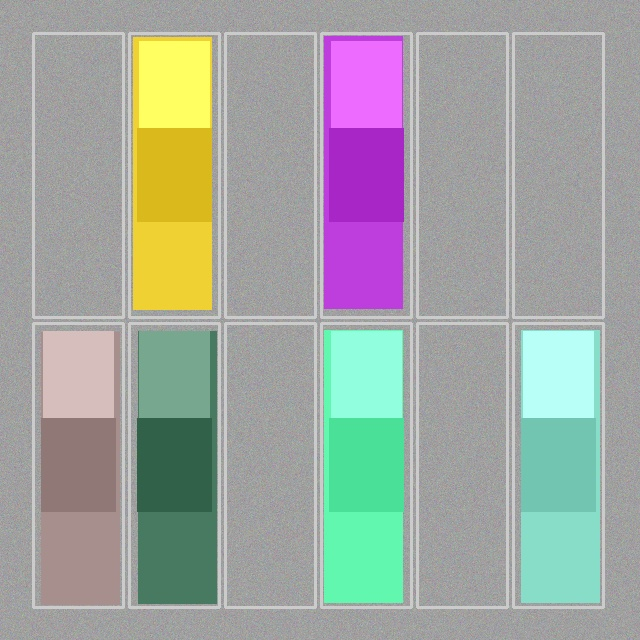space-empty: (35, 35, 121, 315), (227, 35, 313, 315), (419, 35, 505, 315), (515, 35, 601, 315), (227, 325, 313, 605), (419, 325, 505, 605)
space-occupied: (131, 35, 217, 315), (323, 35, 409, 315), (35, 325, 121, 605), (131, 325, 217, 605), (323, 325, 409, 605), (515, 325, 601, 605)
